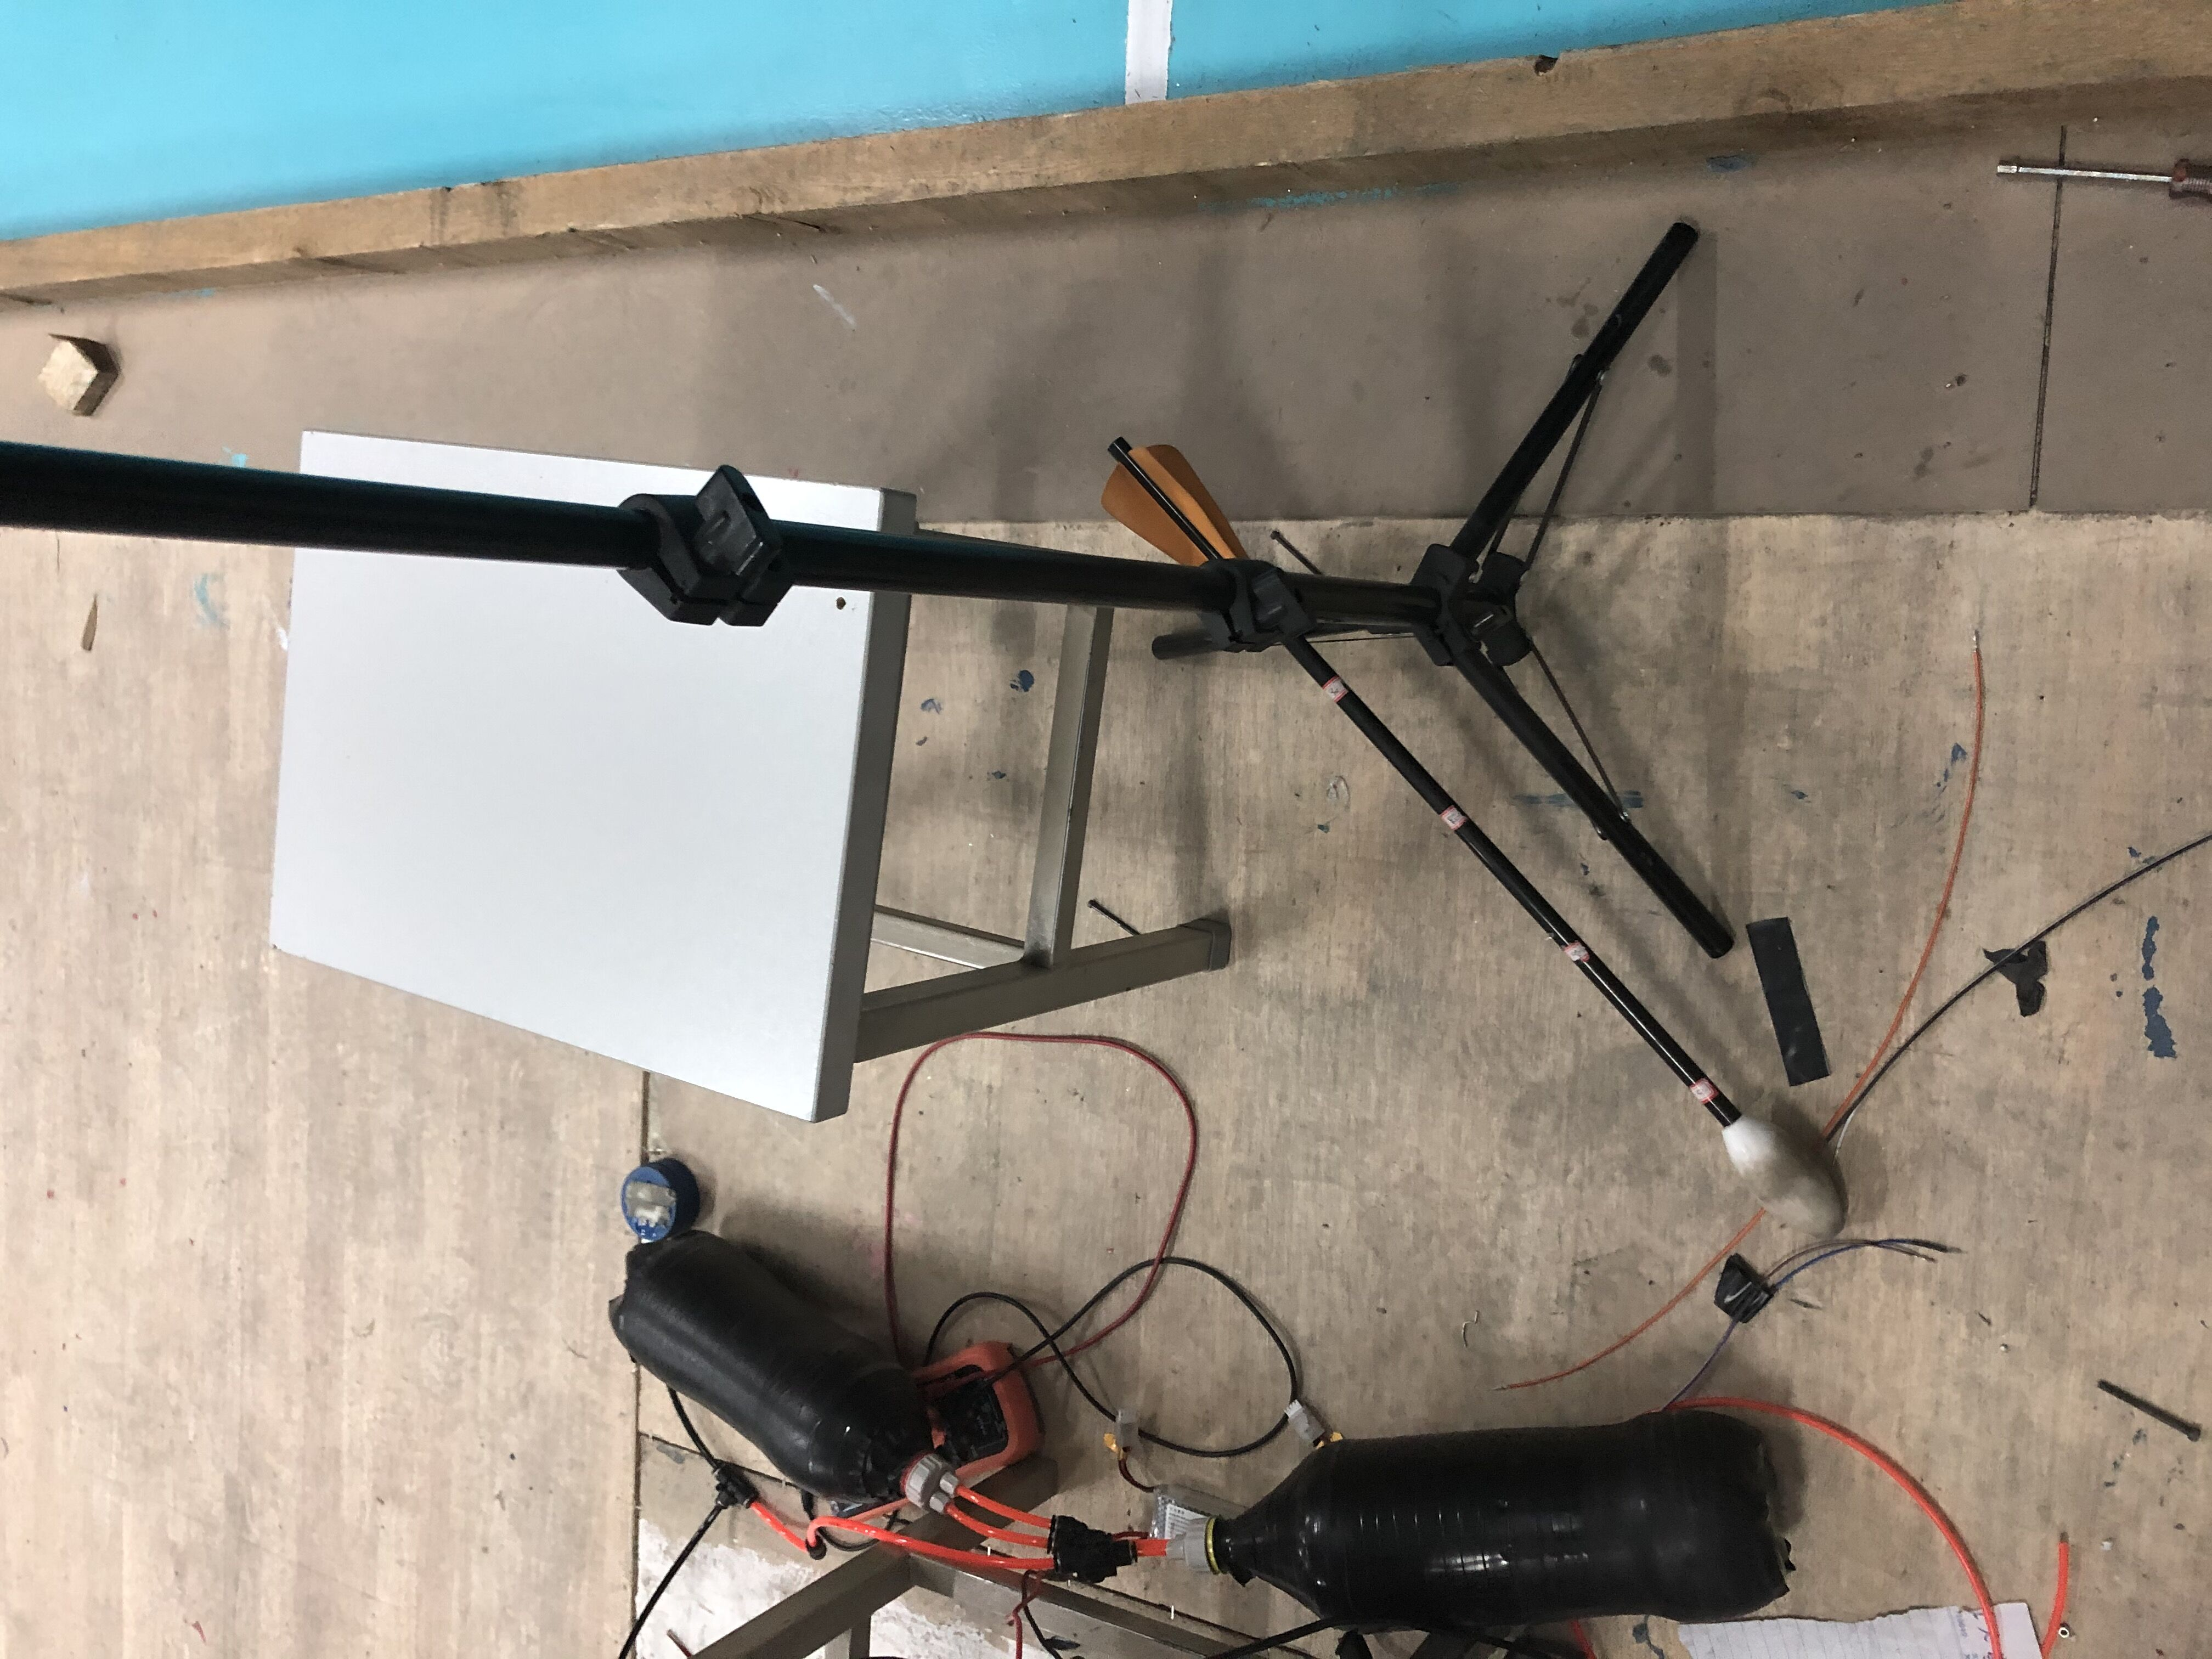arrow: (1101, 434, 1848, 1239)
arrowFront: (1714, 1112, 1853, 1236)
